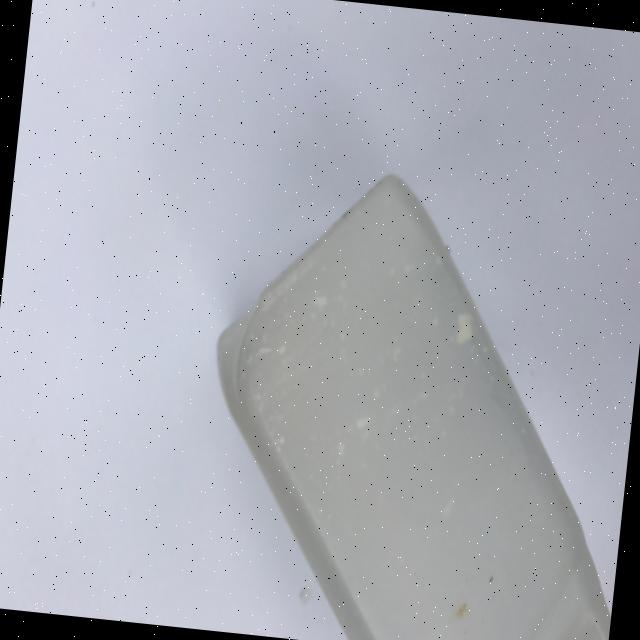plastic: (186, 155, 640, 640)
